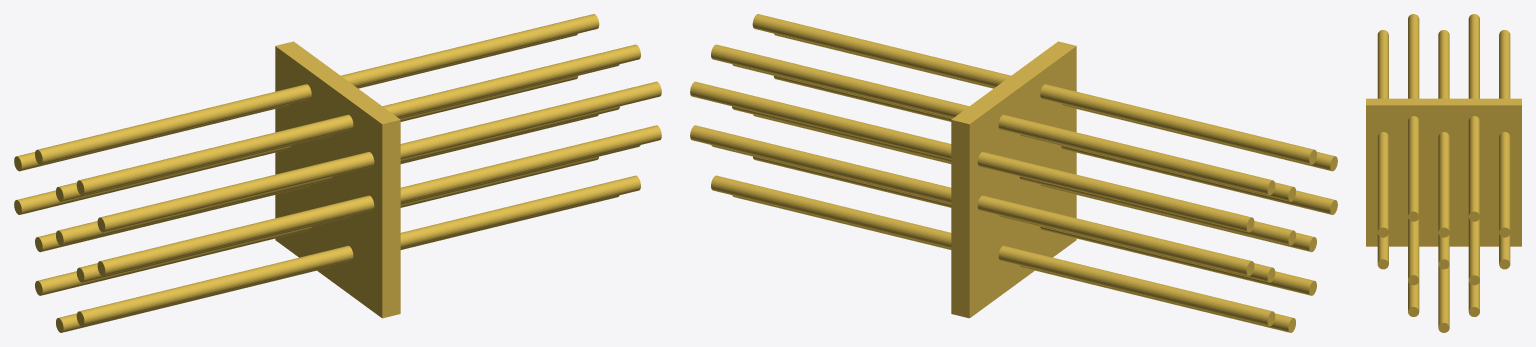
The model's file is actin.gltf.
The picture shows the model from 3 angles, left to right: view 1: azimuth 30°, elevation 25°; view 2: azimuth 150°, elevation 25°; view 3: azimuth 270°, elevation 25°; orthographic projection. The views are drawn at different scales.
Visible parts, largest first — view 1: Cylinder.001, Cube; view 2: Cylinder.001, Cube; view 3: Cube, Cylinder.001.
Boxes of the visible parts, x1,y1,x2,y2 form: Cylinder.001: (14, 14, 661, 332); Cube: (275, 41, 400, 318); Cylinder.001: (690, 14, 1337, 332); Cube: (951, 41, 1076, 318); Cube: (1366, 98, 1521, 246); Cylinder.001: (1377, 14, 1510, 332).
Bounding box in the file's own units: 6 × 2 × 2.
